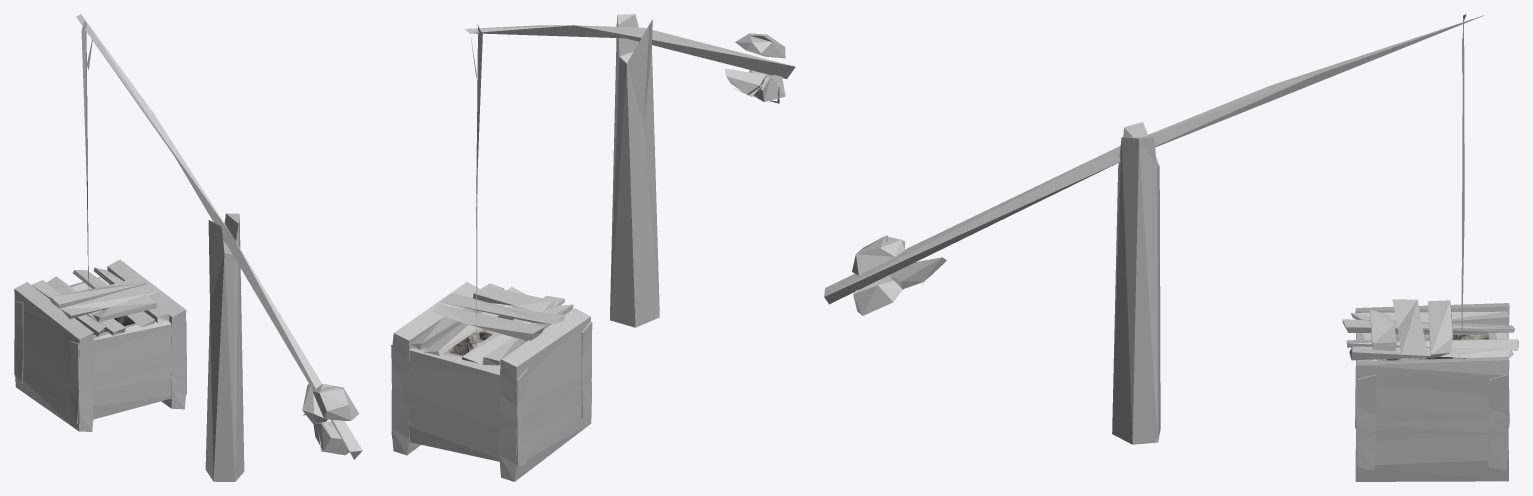
File: Well_LOD3.fbx
The picture shows the model from 3 angles, left to right: view 1: azimuth 30°, elevation 25°; view 2: azimuth 150°, elevation 25°; view 3: azimuth 270°, elevation 25°; orthographic projection. The views are drawn at different scales.
Visible parts, largest first — view 1: Wood, General; view 2: Wood, General, Stone; view 3: Wood, General.
Boxes of the visible parts, left/top/right/bottom form: Wood: left=14, top=14, right=362, bottom=481; General: left=81, top=20, right=358, bottom=455; Wood: left=391, top=14, right=795, bottom=481; General: left=471, top=24, right=785, bottom=345; Stone: left=445, top=328, right=495, bottom=355; Wood: left=824, top=15, right=1518, bottom=481; General: left=852, top=14, right=1466, bottom=358.
Size of the model in its own units: 196 by 906 by 630.
